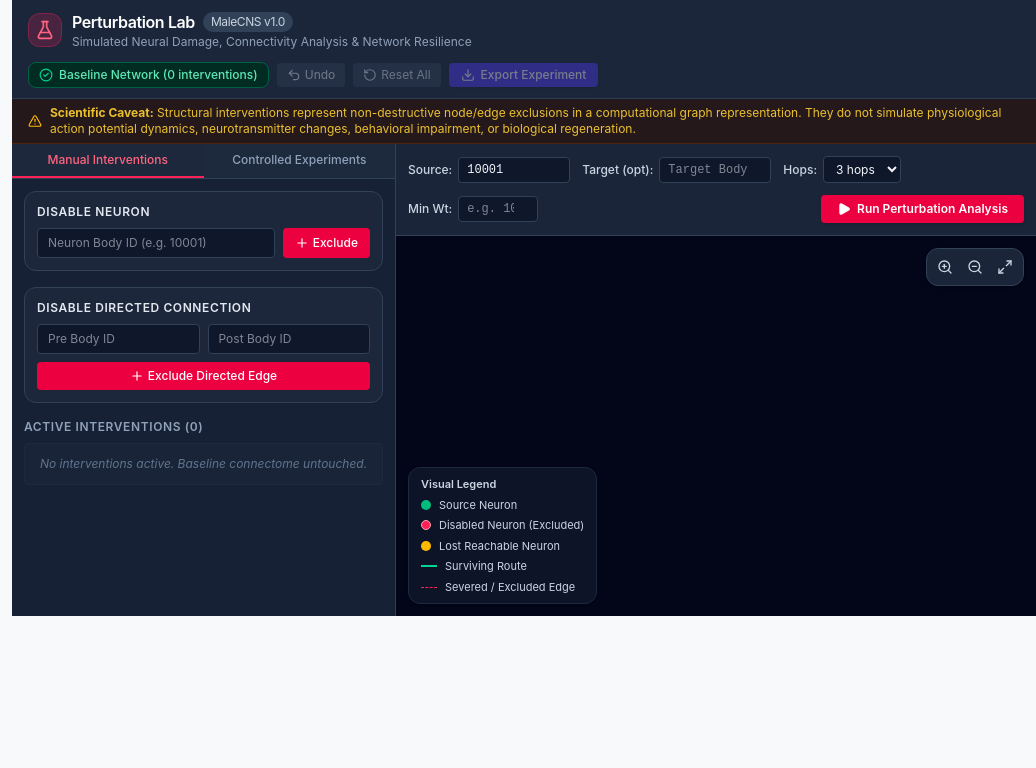
Test case: PerturbationLab (V5) Component › allows adding and removing a neuron intervention
The width and height of the screenshot is (1036, 768).
Type "800146" into the number field with placeholder "Neuron Body ID (e.g. 10001)" at {"x": 156, "y": 243}, box [37, 228, 275, 258]
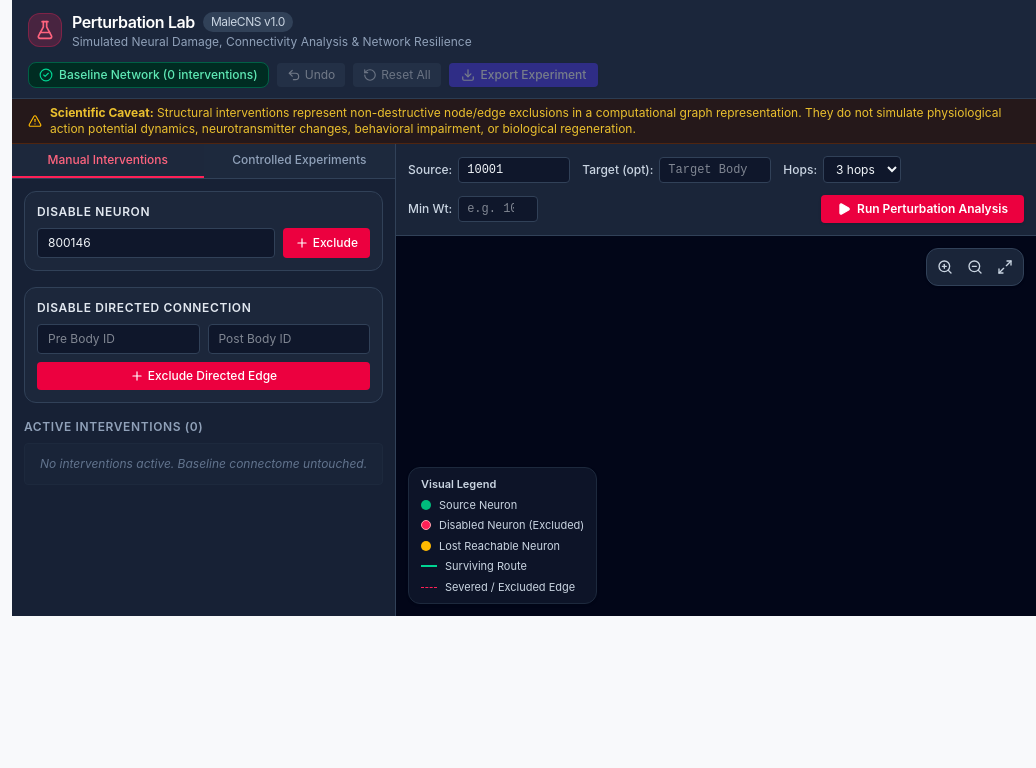
Click the button "Exclude" at {"x": 326, "y": 243}, box [283, 228, 370, 258]
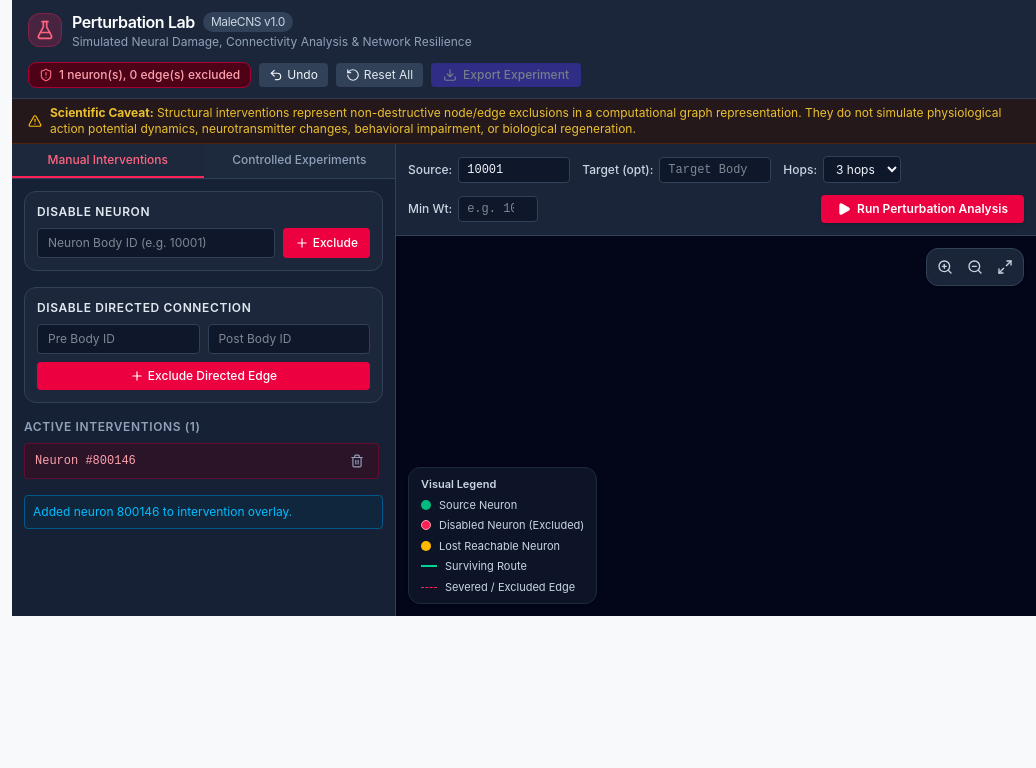
Now the text "Neuron #800146" is shown, box [35, 453, 136, 469]
# Remove the intervention
Click the button titled "Restore this neuron" at {"x": 357, "y": 461}, box [346, 450, 368, 472]
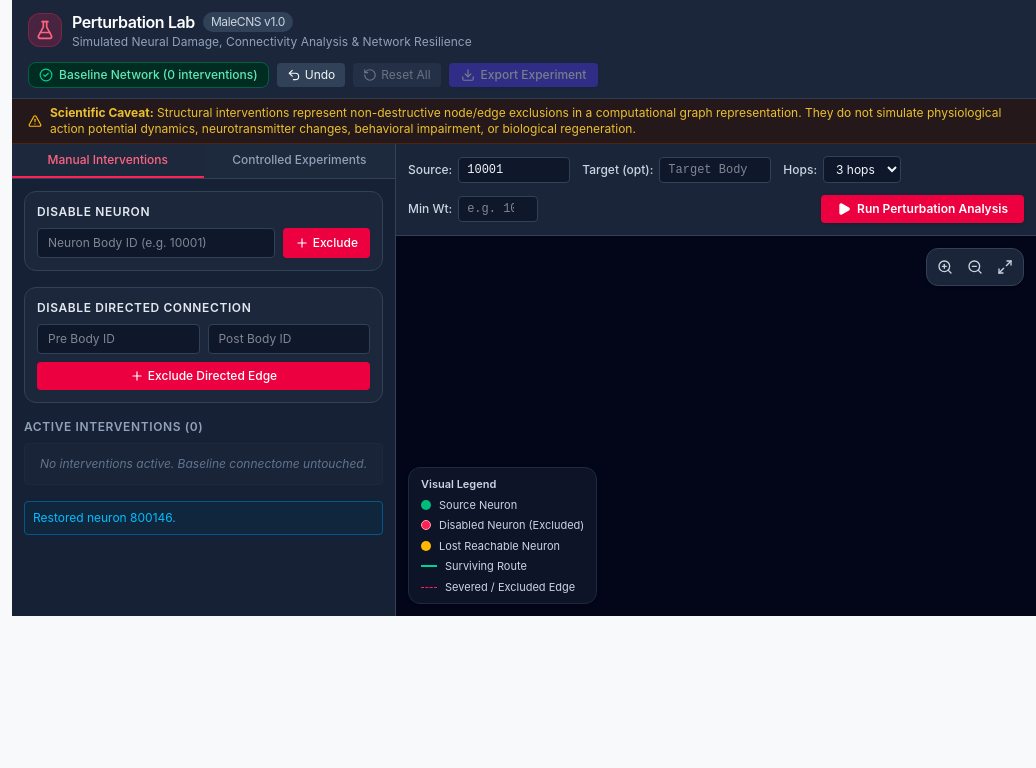
Now the text "Neuron #800146" is gone
